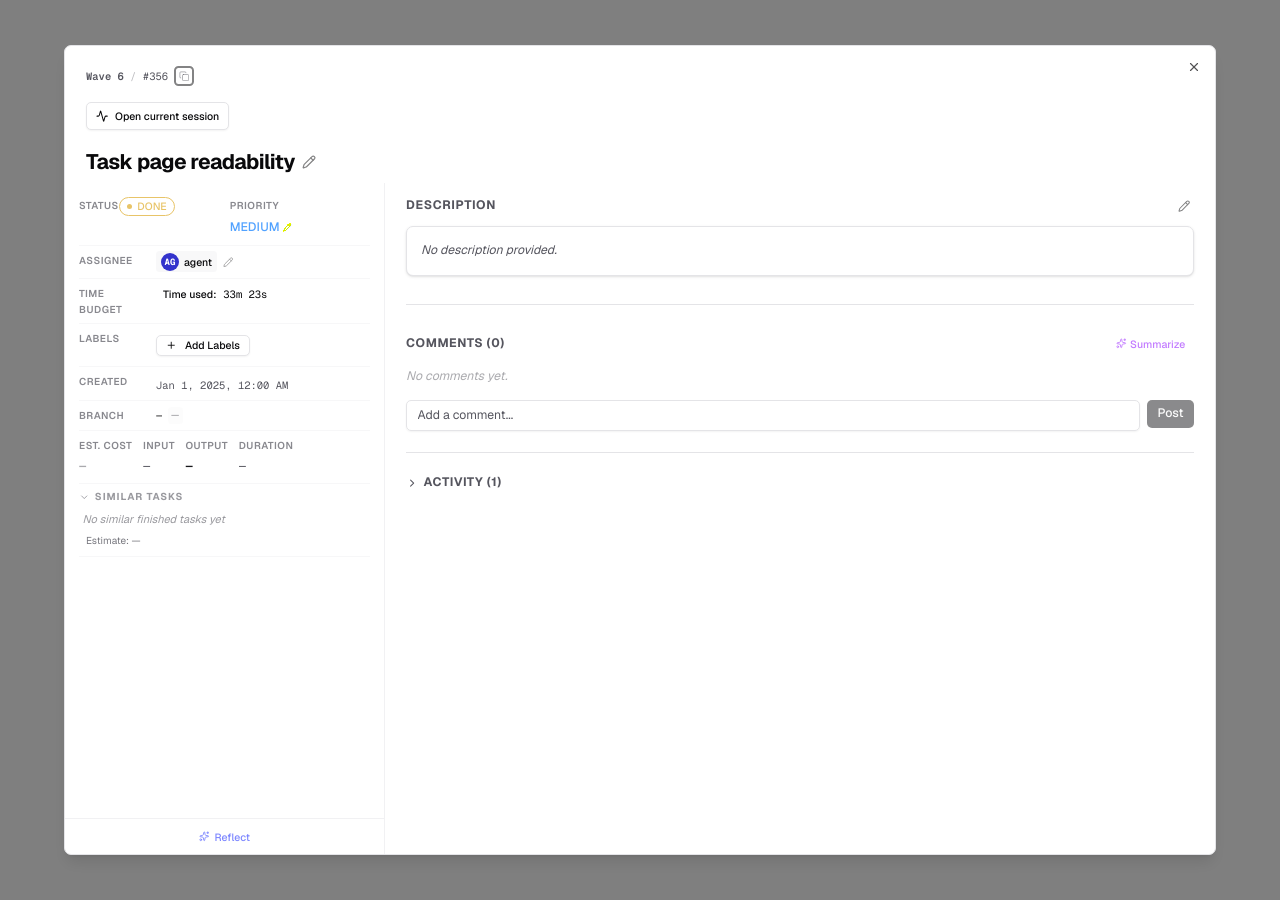
Test: TaskDetailModal — one history › collapses the Activity timeline by default (comments is the read surface)
The width and height of the screenshot is (1280, 900).
Check: the text "UNIQUE_MUTATION_DESC_123" is not shown
# Expanding reveals the timeline.
Click the button with test id "activity-toggle" at (454, 483), box [406,474,502,492]
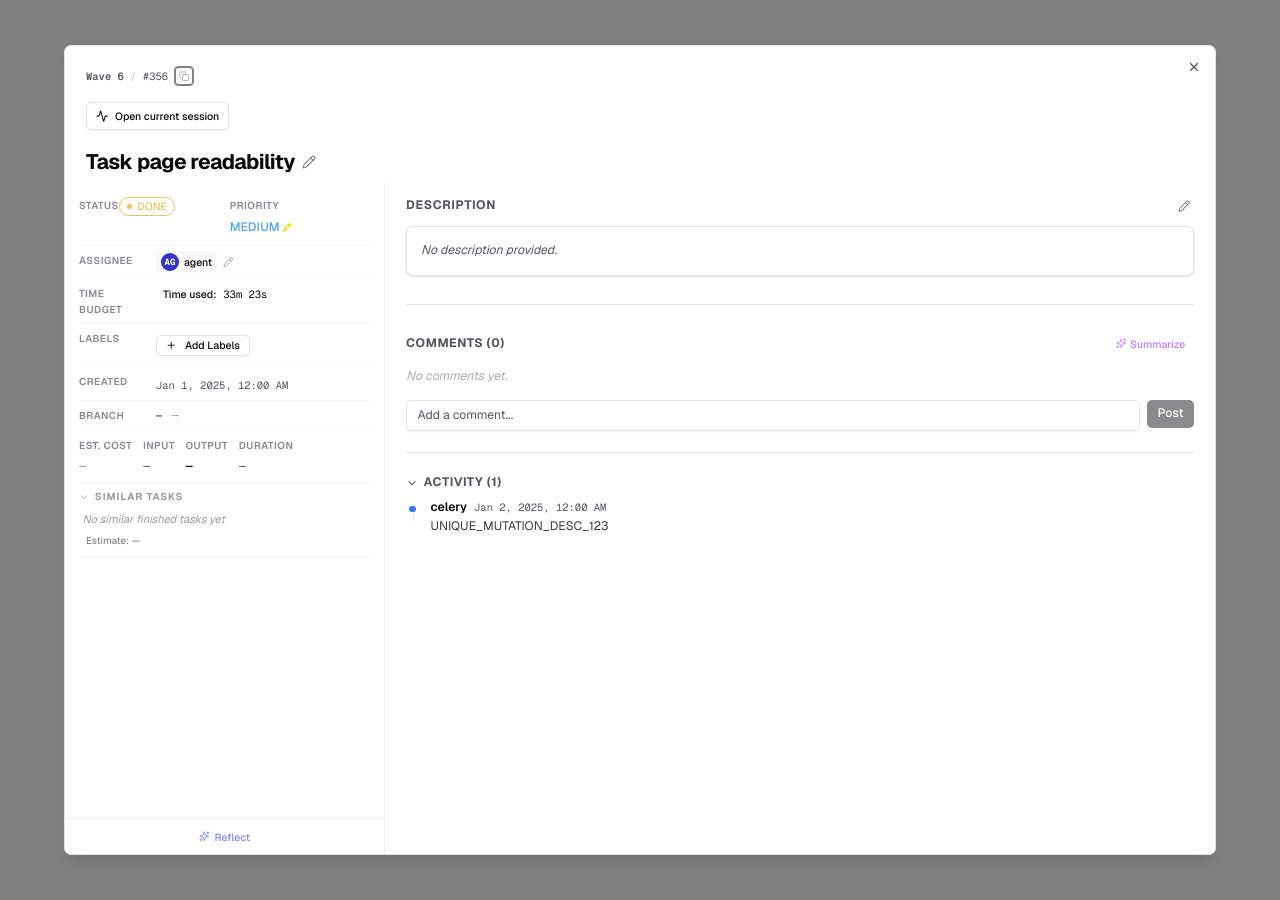
Check: the text "UNIQUE_MUTATION_DESC_123" is shown, box [430,518,608,534]
